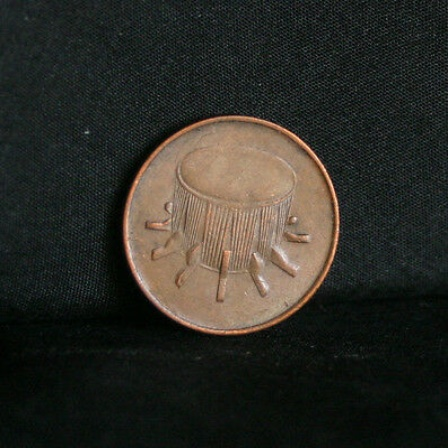1c: (121, 113, 342, 337)
